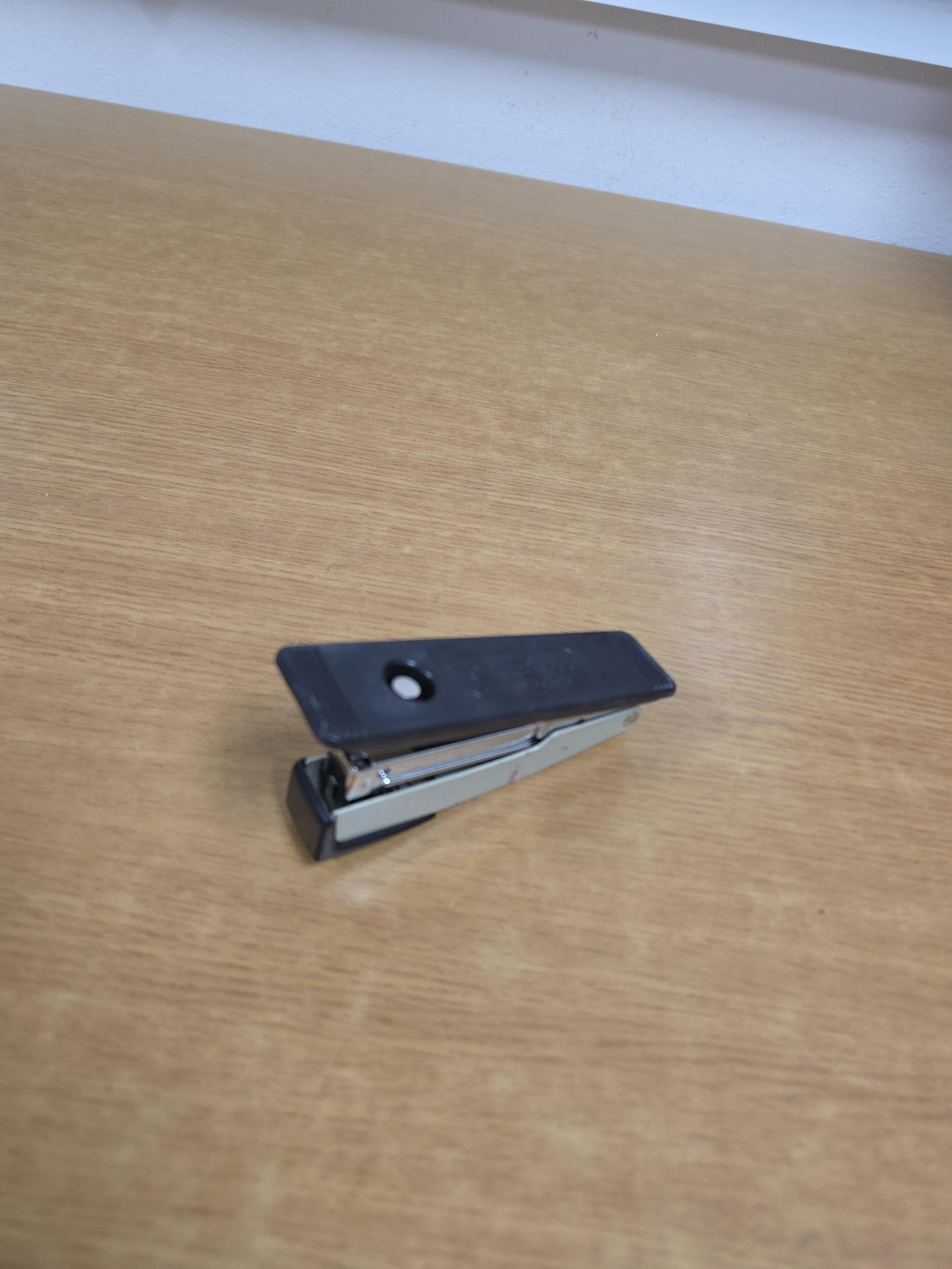stapler: (275, 631, 679, 863)
